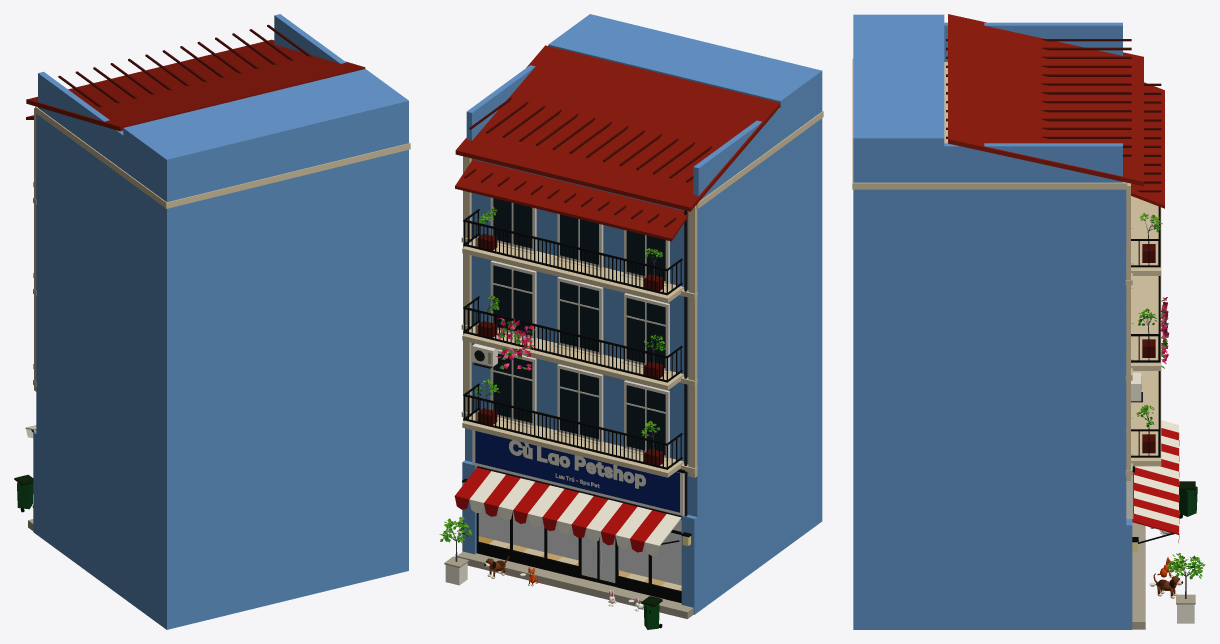
Rendered from PV_StreetShop08_Petshop.fbx.
3 renders of one model, left to right at view 1: azimuth 30°, elevation 25°; view 2: azimuth 150°, elevation 25°; view 3: azimuth 270°, elevation 25°, orthographic. The views are drawn at different scales.
Visible parts, largest first — view 1: PV_StreetShop08_Petshop_LOD0; view 2: PV_StreetShop08_Petshop_LOD0; view 3: PV_StreetShop08_Petshop_LOD0.
Part boxes in pixels (left/top/right/bottom): PV_StreetShop08_Petshop_LOD0: left=14, top=14, right=410, bottom=629; PV_StreetShop08_Petshop_LOD0: left=439, top=14, right=823, bottom=629; PV_StreetShop08_Petshop_LOD0: left=852, top=14, right=1205, bottom=629.
Size of what is drawn, in the model's own units: 8.46 by 15.5 by 10.09.
2 materials, 1 textured.
